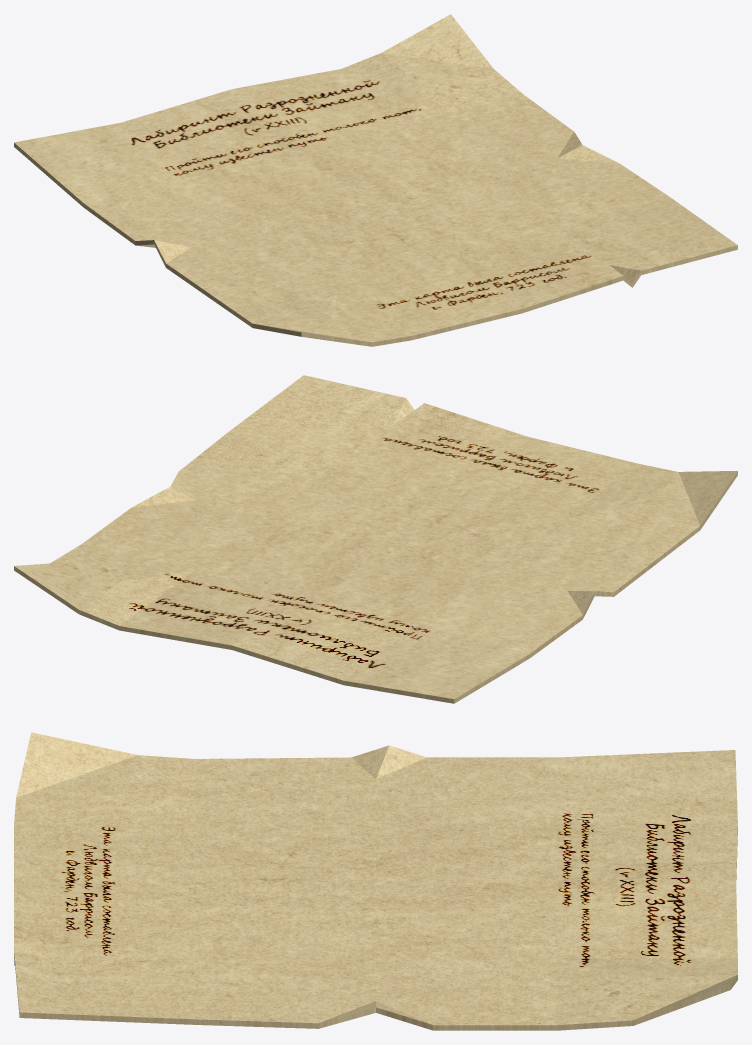
The model's file is Library Labyrinth (a) v0-0.fbx.
The picture shows the model from 3 angles, top to bottom: view 1: azimuth 30°, elevation 25°; view 2: azimuth 150°, elevation 25°; view 3: azimuth 270°, elevation 25°; orthographic projection. The views are drawn at different scales.
Visible parts, largest first — view 1: Library Labyrinth; view 2: Library Labyrinth; view 3: Library Labyrinth.
Boxes of the visible parts, left/top/right/bottom form: Library Labyrinth: left=14, top=14, right=737, bottom=346; Library Labyrinth: left=14, top=375, right=737, bottom=703; Library Labyrinth: left=14, top=732, right=737, bottom=1030.
Bounding box in the file's own units: 58.05 × 4.65 × 66.34.
